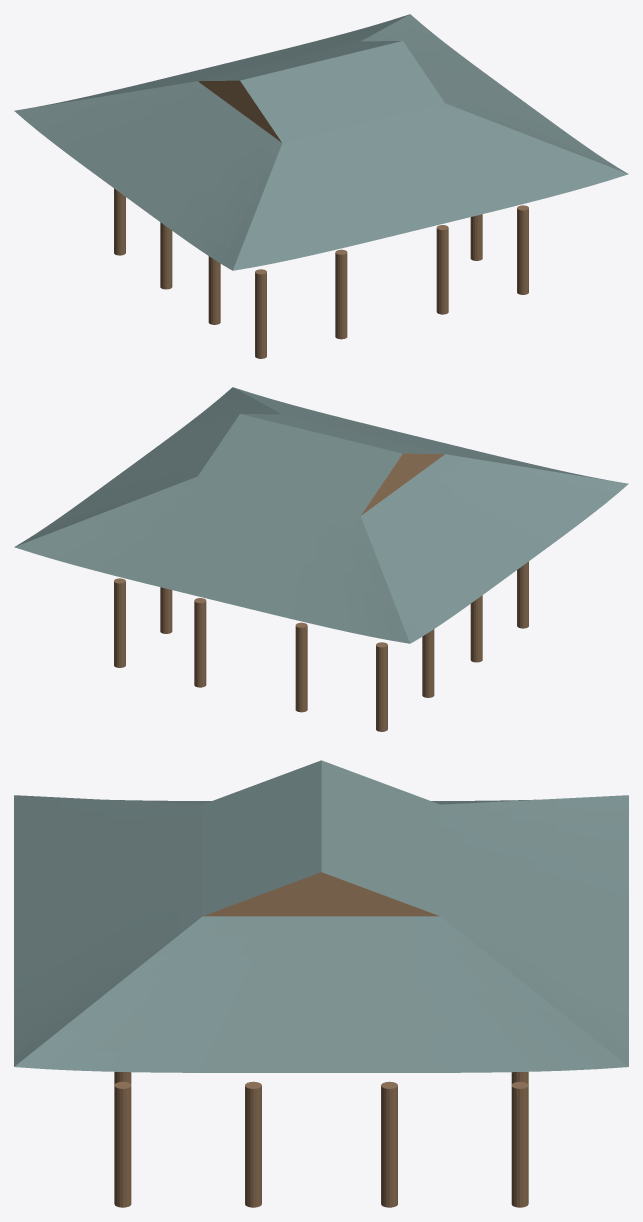
The model's file is WANFO_PROOF_V002.glb.
3 renders of one model, top to bottom at view 1: azimuth 30°, elevation 25°; view 2: azimuth 150°, elevation 25°; view 3: azimuth 270°, elevation 25°, orthographic. The views are drawn at different scales.
Visible parts, largest first — view 1: TMP_XIESHAN_STITCHED_SURFACE_V002, TMP_COLUMN_1_0, TMP_COLUMN_2_0, TMP_COLUMN_0_0, TMP_COLUMN_3_0, TMP_COLUMN_0_1, TMP_COLUMN_0_2, TMP_COLUMN_0_3, TMP_COLUMN_3_1; view 2: TMP_XIESHAN_STITCHED_SURFACE_V002, TMP_COLUMN_1_3, TMP_COLUMN_2_3, TMP_COLUMN_0_3, TMP_COLUMN_3_3, TMP_COLUMN_0_2, TMP_COLUMN_0_1, TMP_COLUMN_0_0, TMP_COLUMN_3_2; view 3: TMP_XIESHAN_STITCHED_SURFACE_V002, TMP_COLUMN_3_0, TMP_COLUMN_3_3, TMP_COLUMN_3_1, TMP_COLUMN_3_2.
Boxes of the visible parts, x1,y1,x2,y2 form: TMP_XIESHAN_STITCHED_SURFACE_V002: [14, 14, 628, 270]; TMP_COLUMN_1_0: [335, 249, 347, 339]; TMP_COLUMN_2_0: [436, 225, 448, 314]; TMP_COLUMN_0_0: [255, 269, 266, 358]; TMP_COLUMN_3_0: [517, 205, 528, 294]; TMP_COLUMN_0_1: [208, 256, 220, 324]; TMP_COLUMN_0_2: [160, 222, 172, 289]; TMP_COLUMN_0_3: [114, 188, 125, 255]; TMP_COLUMN_3_1: [470, 214, 482, 260]; TMP_XIESHAN_STITCHED_SURFACE_V002: [14, 387, 628, 643]; TMP_COLUMN_1_3: [295, 622, 307, 712]; TMP_COLUMN_2_3: [194, 598, 206, 687]; TMP_COLUMN_0_3: [376, 642, 387, 731]; TMP_COLUMN_3_3: [114, 578, 125, 667]; TMP_COLUMN_0_2: [422, 629, 434, 697]; TMP_COLUMN_0_1: [470, 595, 482, 662]; TMP_COLUMN_0_0: [517, 561, 528, 628]; TMP_COLUMN_3_2: [160, 587, 172, 633]; TMP_XIESHAN_STITCHED_SURFACE_V002: [14, 760, 628, 1072]; TMP_COLUMN_3_0: [114, 1081, 131, 1207]; TMP_COLUMN_3_3: [511, 1081, 528, 1207]; TMP_COLUMN_3_1: [245, 1081, 261, 1207]; TMP_COLUMN_3_2: [381, 1081, 397, 1207].
Size of the model in its own units: 17355 by 8870 by 16590.
